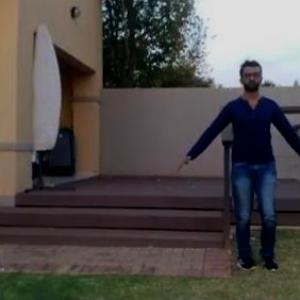land: (170, 59, 299, 280)
